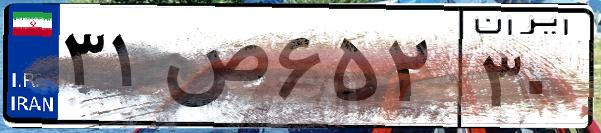0: (525, 38, 570, 115)
1: (110, 28, 158, 98)
2: (385, 28, 445, 110)
3: (57, 26, 110, 100), (475, 38, 525, 113)
5: (330, 28, 385, 110)
6: (270, 28, 330, 110)
ص: (158, 20, 270, 120)
